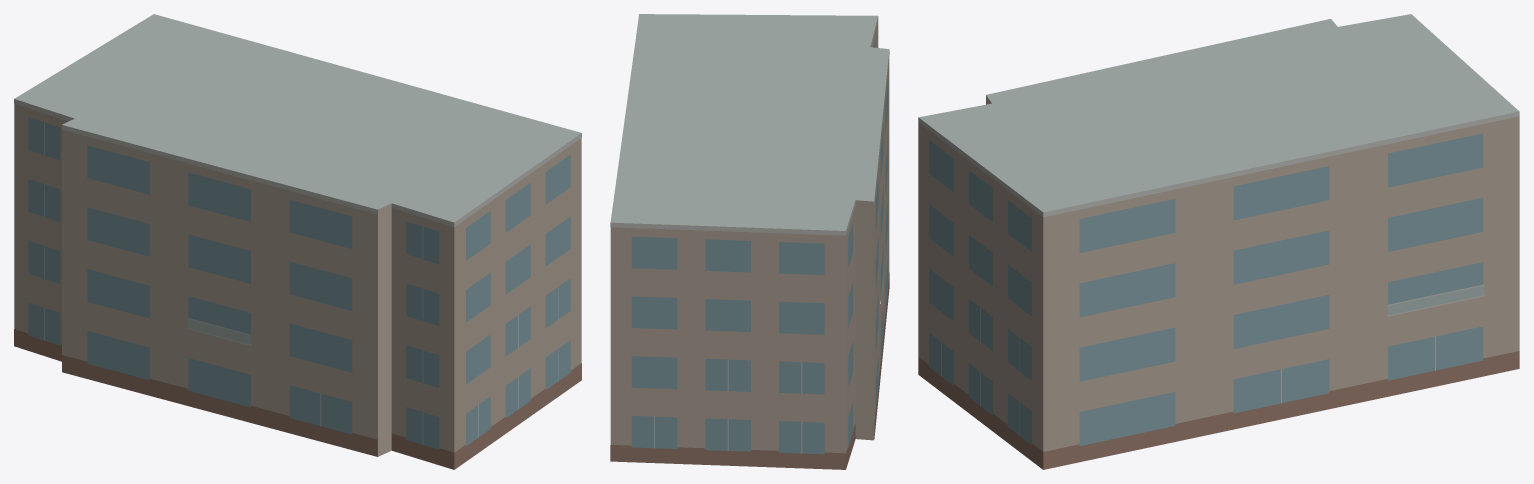
The model's file is survey-upis-32803363.glb.
The picture shows the model from 3 angles, left to right: view 1: azimuth 30°, elevation 25°; view 2: azimuth 150°, elevation 25°; view 3: azimuth 270°, elevation 25°; orthographic projection. The views are drawn at different scales.
Parts seen in each view (by area): view 1: survey-upis-32803363.tmp; view 2: survey-upis-32803363.tmp; view 3: survey-upis-32803363.tmp.
Boxes of the visible parts, x1,y1,x2,y2 form: survey-upis-32803363.tmp: (14,14,581,469); survey-upis-32803363.tmp: (610,14,889,469); survey-upis-32803363.tmp: (918,14,1519,469).
Size of the model in its own units: 21.18 by 12.8 by 27.1.
